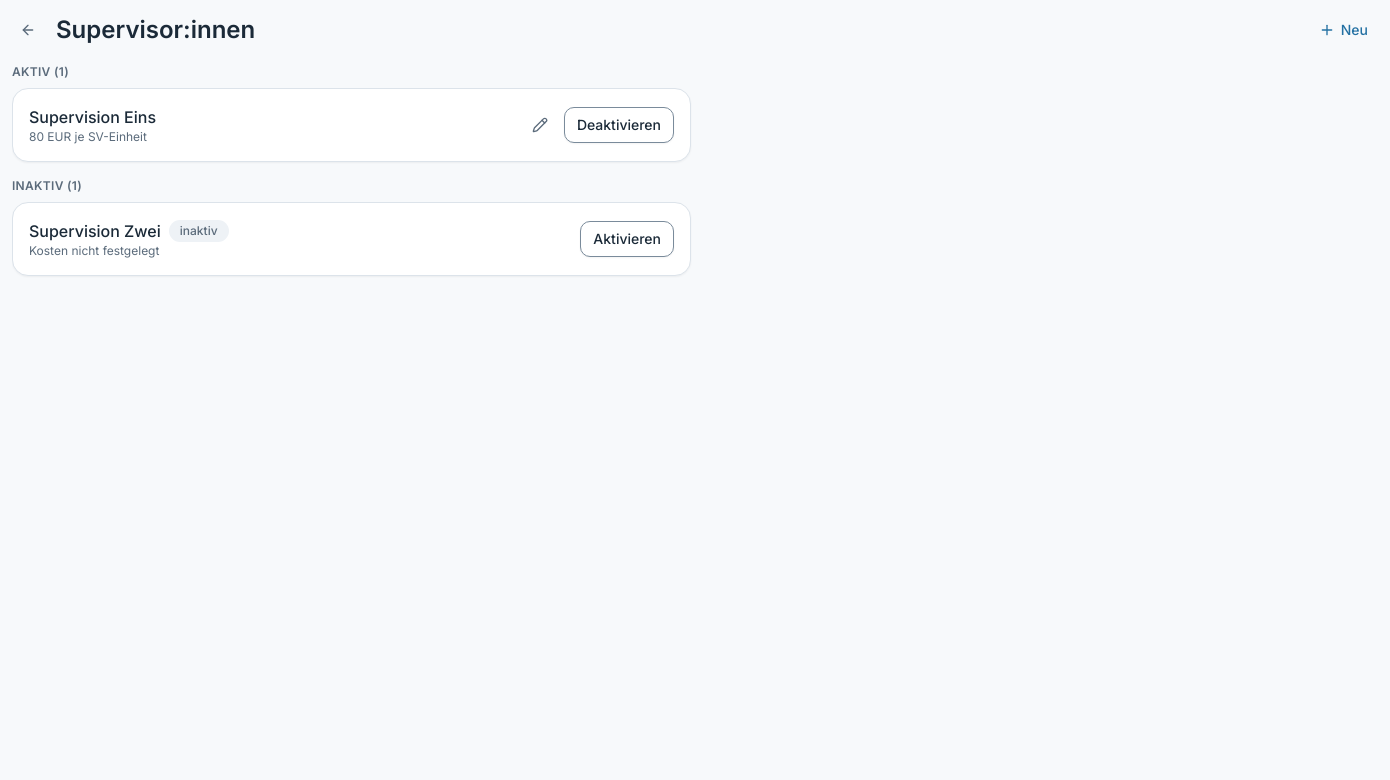
Test case: SupervisorsClient › zeigt Fehler beim Anlegen im Formular und verwirft sie beim Schließen
Click the button "Neu" at (1343, 30), box [1309,12,1378,48]
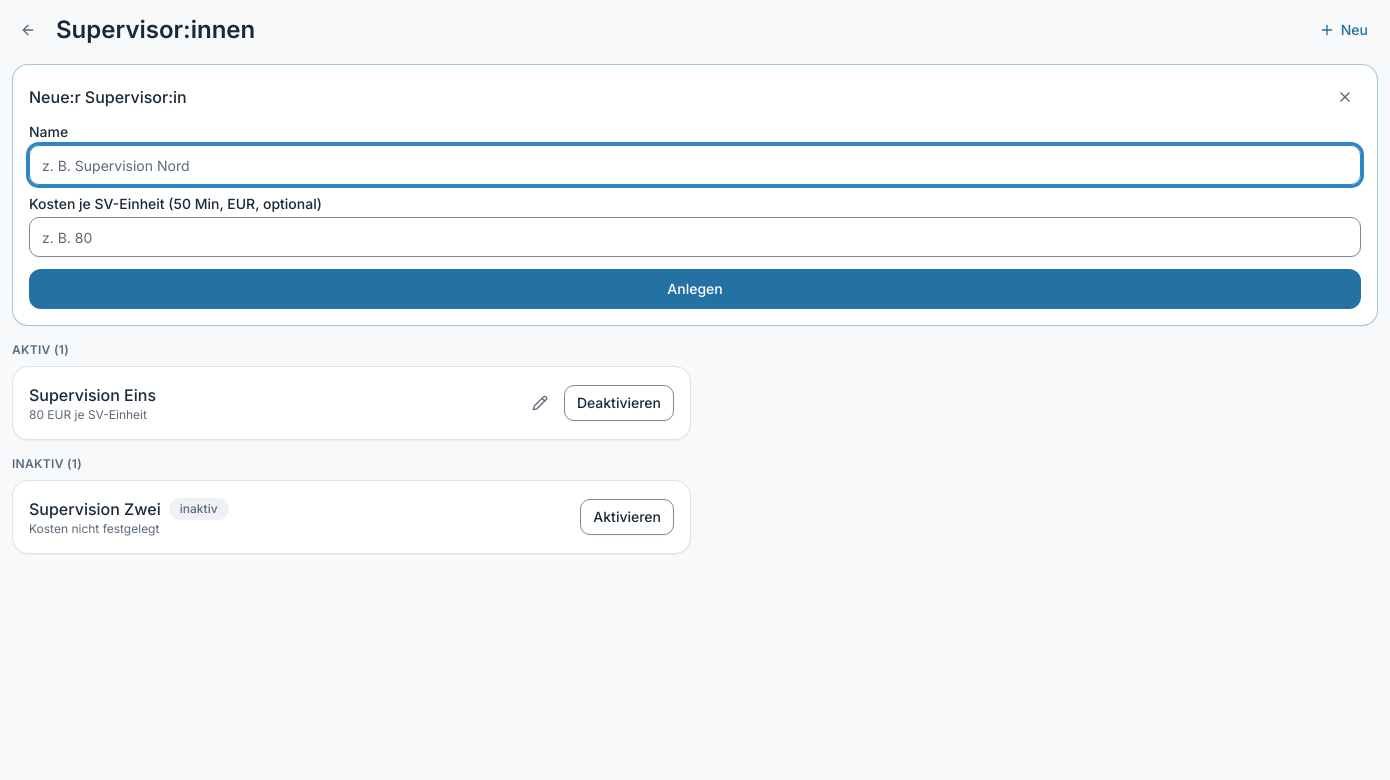
Type "Supervision Drei" into the field labelled "Name" at (695, 165), box [29,145,1361,185]
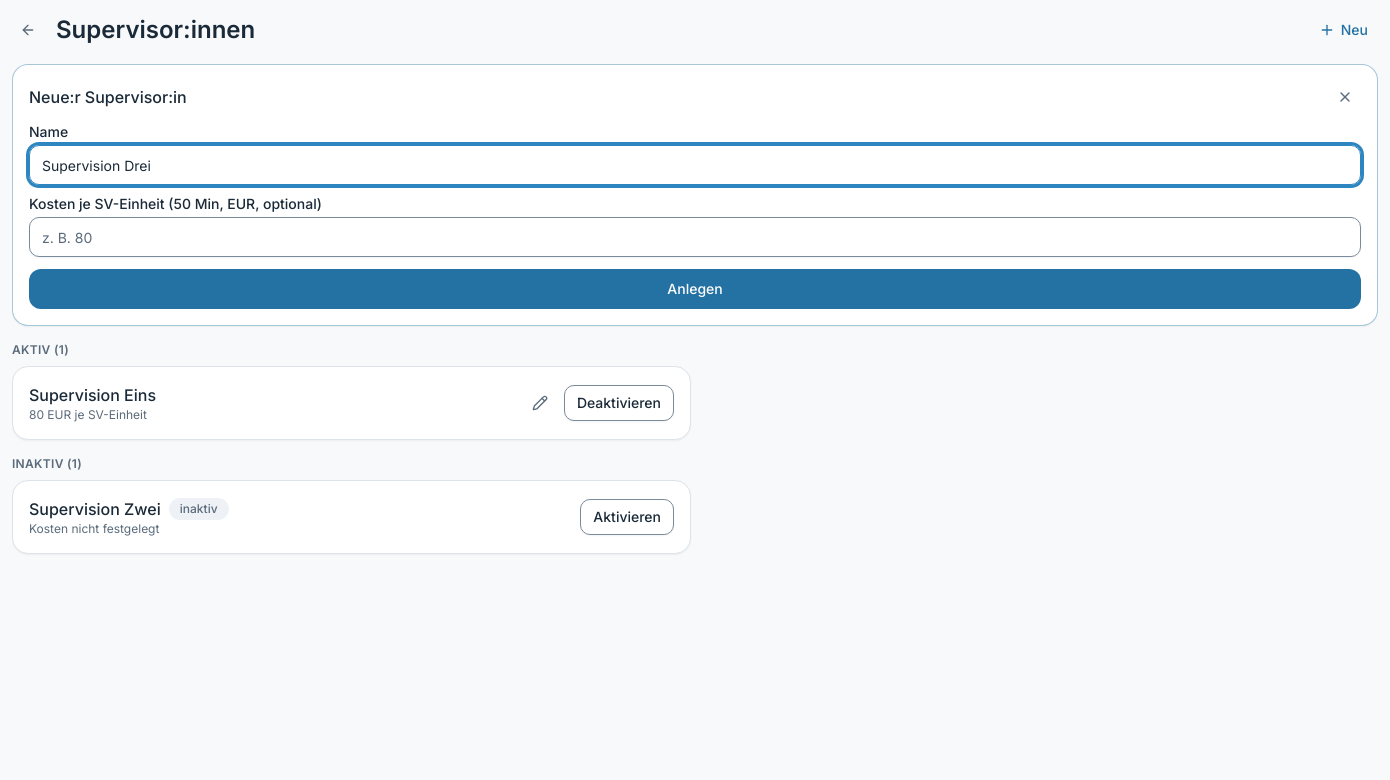
Click the button "Anlegen" at (695, 289), box [29,269,1361,309]
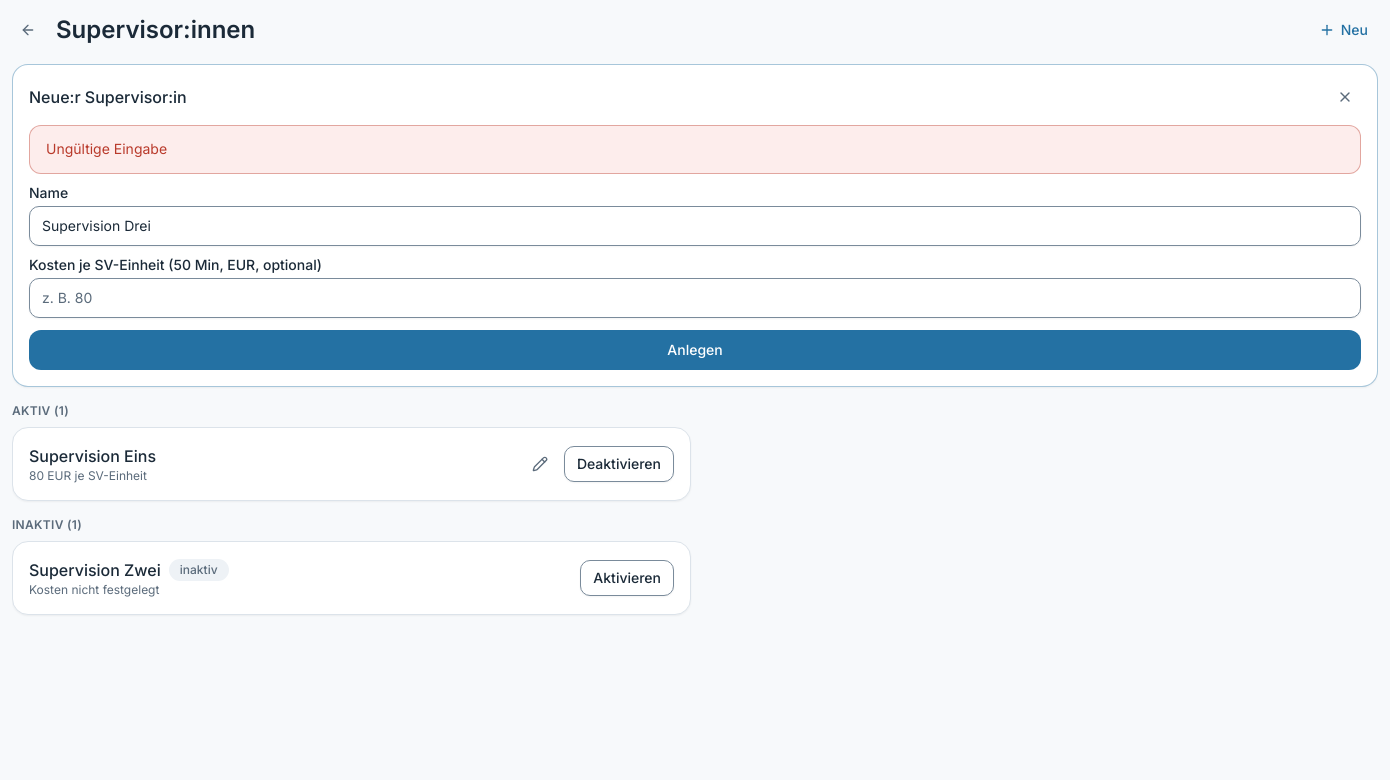
Click the button named "Formular schließen" at (1345, 97), box [1329,81,1361,113]
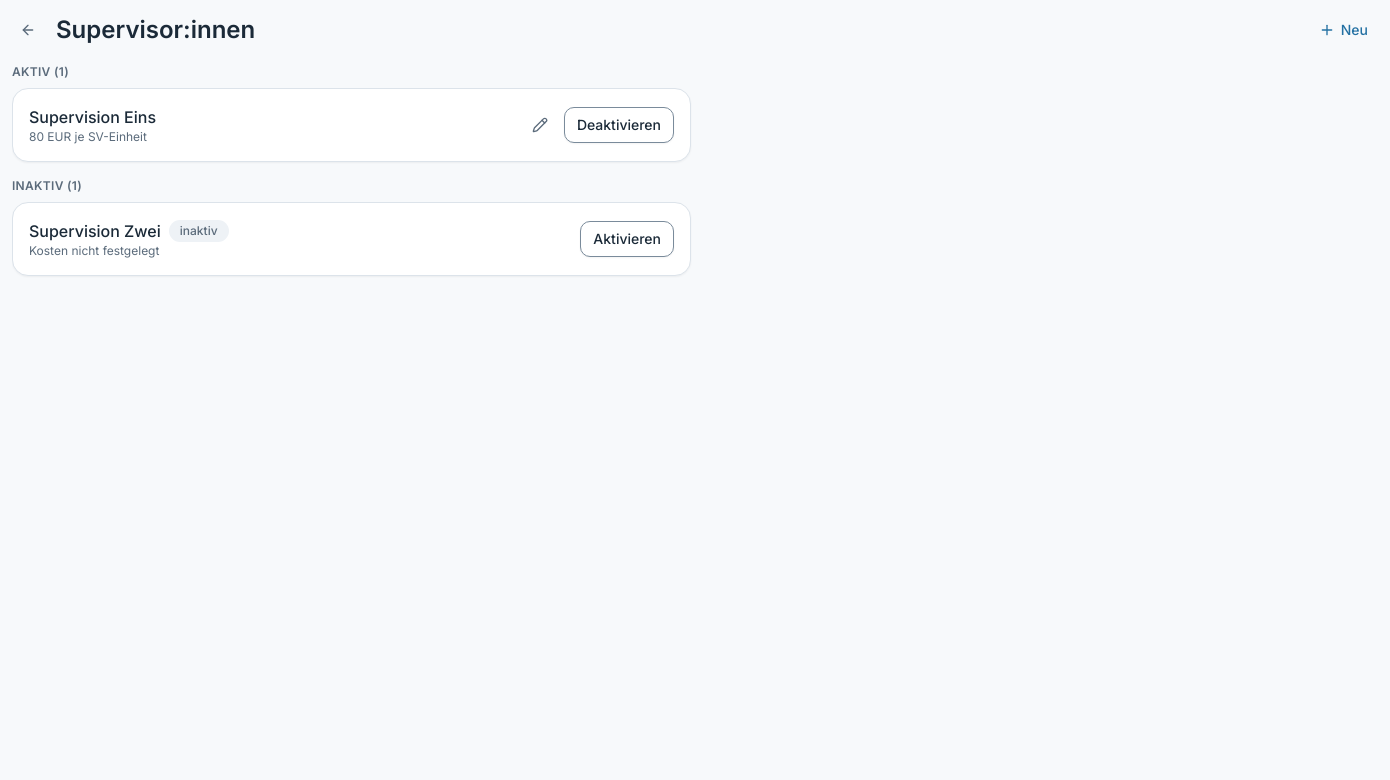
Now the message "Ungültige Eingabe" is gone
